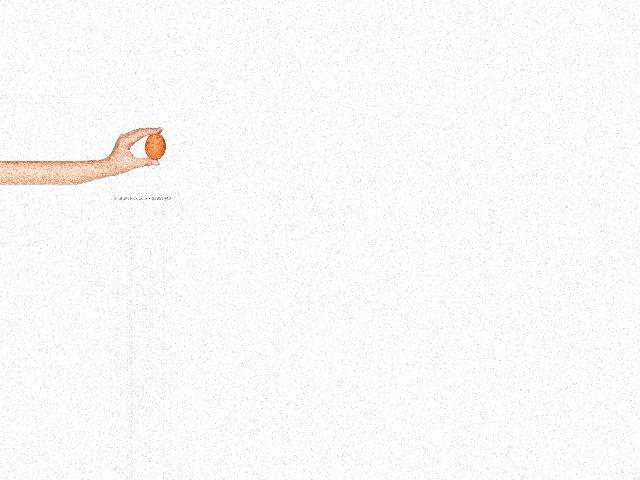egg: (145, 132, 166, 160)
